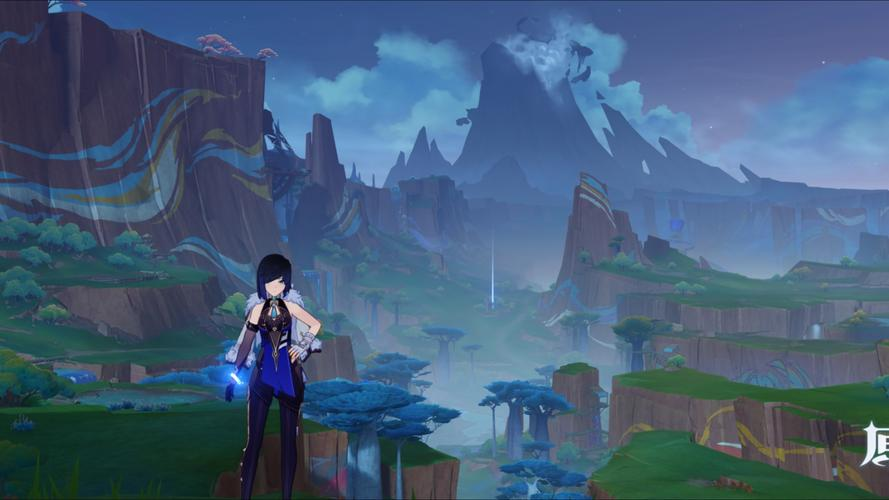夜兰: (217, 253, 330, 500)
